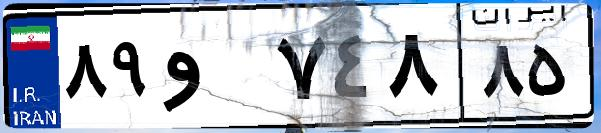4: (330, 28, 385, 110)
5: (525, 38, 570, 115)
7: (270, 28, 330, 110)
8: (385, 28, 445, 110), (57, 26, 110, 100), (475, 38, 525, 113)
9: (110, 28, 158, 98)
و: (158, 20, 270, 120)
